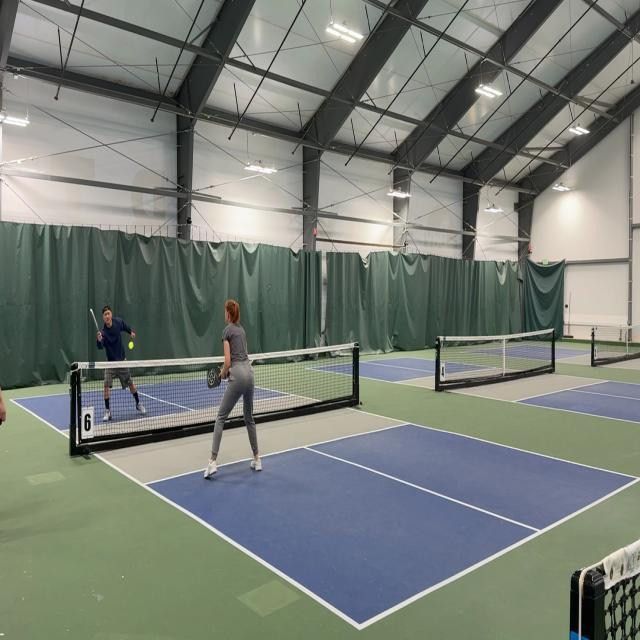ball: (128, 339, 134, 352)
